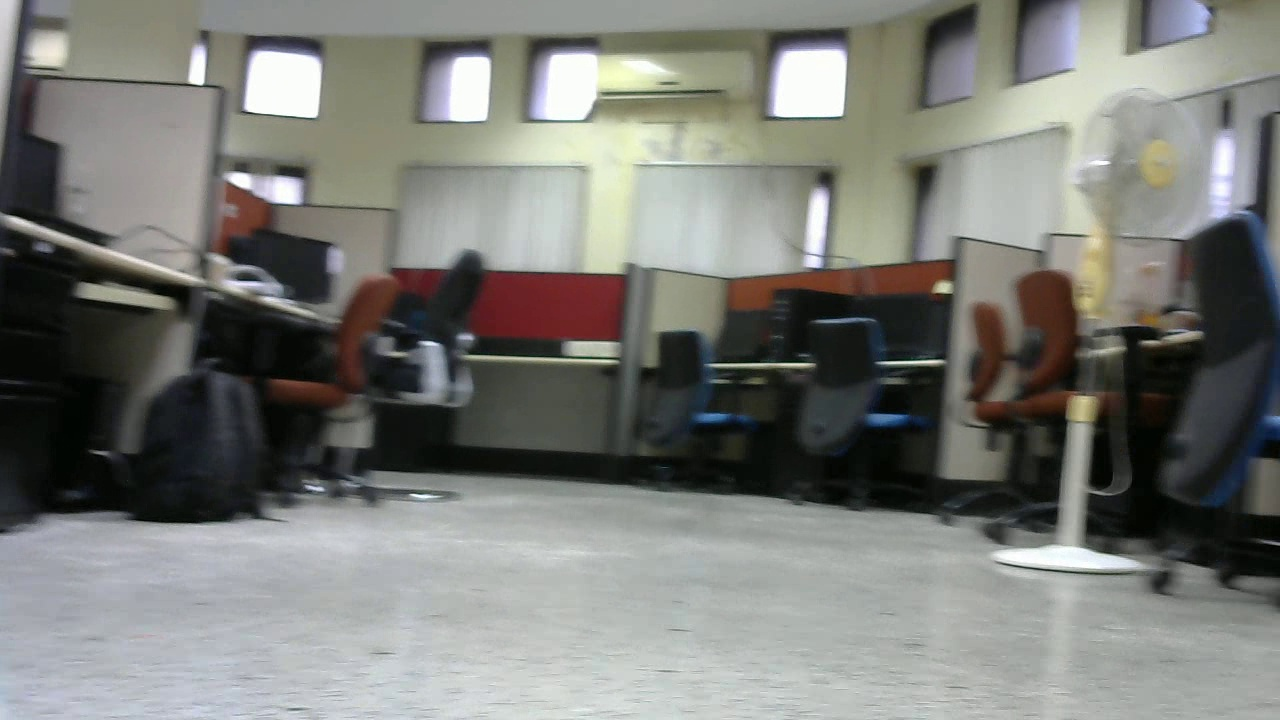chair: (969, 269, 1136, 536), (786, 311, 932, 515), (386, 245, 496, 505), (274, 259, 393, 484), (651, 334, 764, 503)
